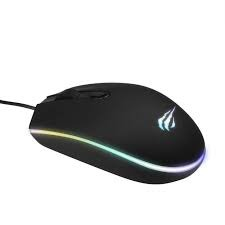mouse: (24, 83, 215, 183)
